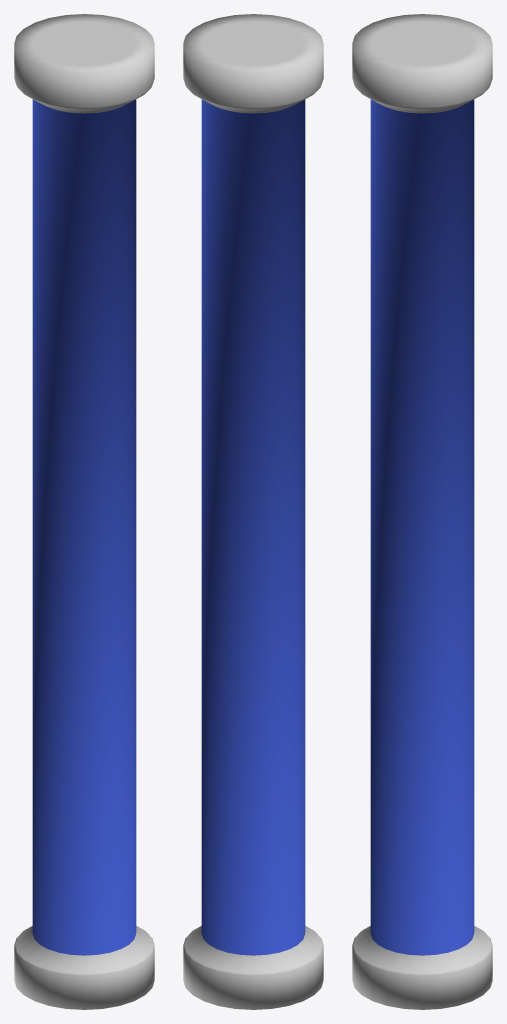
Rendered from Giant_Tank.fbx.
The picture shows the model from 3 angles, left to right: view 1: azimuth 30°, elevation 25°; view 2: azimuth 150°, elevation 25°; view 3: azimuth 270°, elevation 25°; orthographic projection.
Parts seen in each view (by area): view 1: Cylinder; view 2: Cylinder; view 3: Cylinder.
Boxes of the visible parts, x1,y1,x2,y2 form: Cylinder: (14, 14, 154, 1009); Cylinder: (183, 14, 323, 1009); Cylinder: (352, 14, 492, 1009).
Bounding box in the file's own units: 5.44 × 40 × 5.44.
